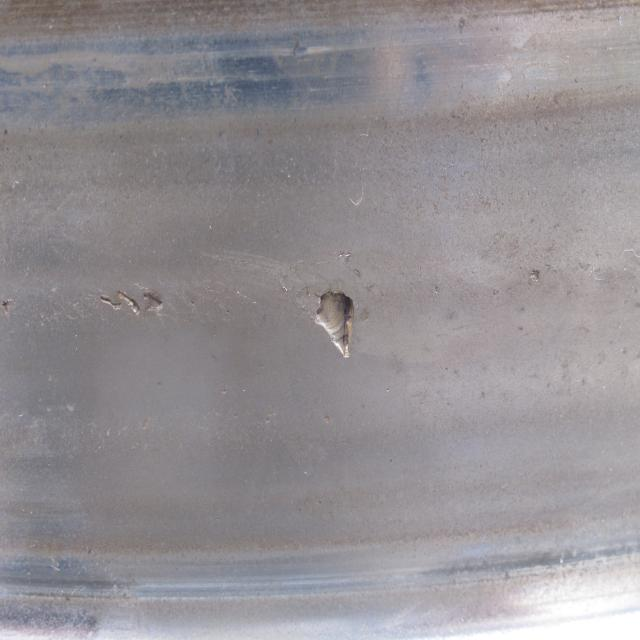Blue hole: (315, 290, 356, 359)
Peeling: (101, 293, 166, 312)
